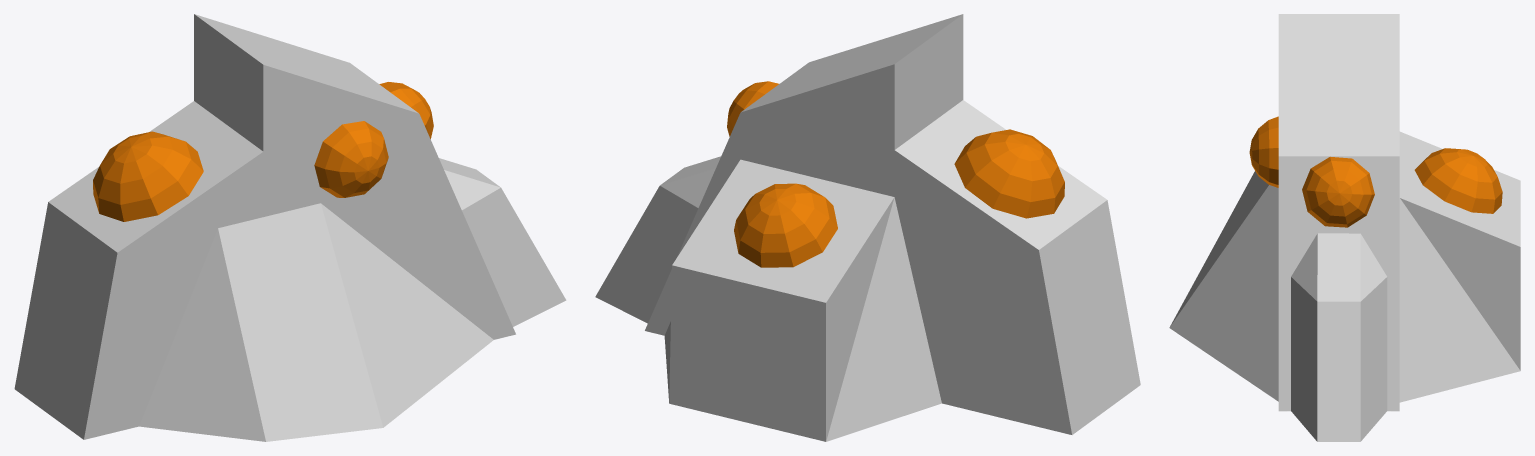
File: Ambar_Tipo2.fbx
3 views of the same model, side by side, from view 1: azimuth 30°, elevation 25°; view 2: azimuth 150°, elevation 25°; view 3: azimuth 270°, elevation 25° (orthographic). The views are drawn at different scales.
Visible parts, largest first — view 1: base.015, ambar.004, ambar.003, ambar.002; view 2: base.015, ambar.004, ambar.001, ambar.002; view 3: base.015, ambar.001, ambar.002, ambar.003.
Part boxes in pixels (x1=…): base.015: x1=14, y1=14, x2=566, y2=441; ambar.004: x1=93, y1=131, x2=203, y2=221; ambar.003: x1=314, y1=121, x2=388, y2=197; ambar.002: x1=379, y1=82, x2=433, y2=138; base.015: x1=595, y1=14, x2=1140, y2=441; ambar.004: x1=954, y1=129, x2=1064, y2=218; ambar.001: x1=734, y1=183, x2=837, y2=267; ambar.002: x1=727, y1=81, x2=778, y2=136; base.015: x1=1169, y1=14, x2=1520, y2=441; ambar.001: x1=1414, y1=148, x2=1502, y2=213; ambar.002: x1=1302, y1=156, x2=1374, y2=227; ambar.003: x1=1249, y1=116, x2=1278, y2=187.
Size of the model in its own units: 140 by 87.89 by 96.69.
